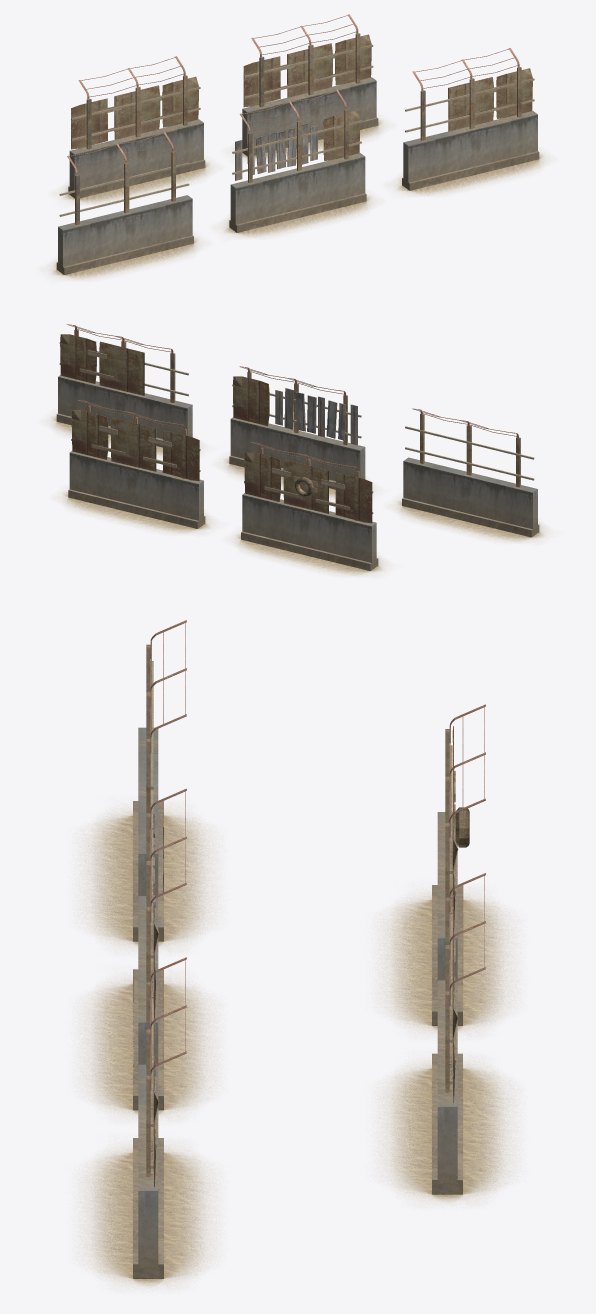
3 views of the same model, one above another, from view 1: azimuth 30°, elevation 25°; view 2: azimuth 150°, elevation 25°; view 3: azimuth 270°, elevation 25° (orthographic). The views are drawn at different scales.
Visible parts, largest first — view 1: fence_2, fence_4, fence_3, fence_1, fence_5, Plane.002, Plane, Plane.001, Plane.004, Plane.003; view 2: fence_2, fence_1, fence_4, fence_3, fence_5, Plane.003, Plane.004, Plane.001, Plane, Plane.002; view 3: Plane.003, Plane.002, Plane.004, Plane, Plane.001, fence_1, fence_3, fence_2, fence_4, fence_5.
Part boxes in pixels (bbox=[...]): fence_2: bbox=[68, 56, 205, 198]; fence_4: bbox=[229, 90, 366, 232]; fence_3: bbox=[402, 48, 539, 190]; fence_1: bbox=[242, 14, 378, 155]; fence_5: bbox=[56, 132, 193, 274]; Plane.002: bbox=[394, 153, 546, 195]; Plane: bbox=[222, 195, 373, 237]; Plane.001: bbox=[49, 237, 200, 279]; Plane.004: bbox=[61, 161, 212, 203]; Plane.003: bbox=[234, 119, 386, 161]; fence_2: bbox=[241, 442, 378, 570]; fence_1: bbox=[68, 400, 205, 528]; fence_4: bbox=[229, 366, 365, 489]; fence_3: bbox=[56, 324, 192, 447]; fence_5: bbox=[402, 408, 539, 537]; Plane.003: bbox=[61, 491, 212, 533]; Plane.004: bbox=[233, 533, 386, 575]; Plane.001: bbox=[394, 499, 547, 542]; Plane: bbox=[222, 457, 374, 499]; Plane.002: bbox=[49, 415, 201, 457]; Plane.003: bbox=[378, 1058, 515, 1203]; Plane.002: bbox=[79, 1143, 216, 1287]; Plane.004: bbox=[379, 891, 517, 1033]; Plane: bbox=[80, 975, 216, 1117]; Plane.001: bbox=[78, 805, 218, 949]; fence_1: bbox=[432, 873, 485, 1194]; fence_3: bbox=[133, 957, 186, 1278]; fence_2: bbox=[432, 704, 485, 1025]; fence_4: bbox=[133, 788, 186, 1110]; fence_5: bbox=[133, 620, 186, 941].
Size of the model in its own units: 12 by 2.33 by 5.
Materials: 6 (6 with a texture image).
